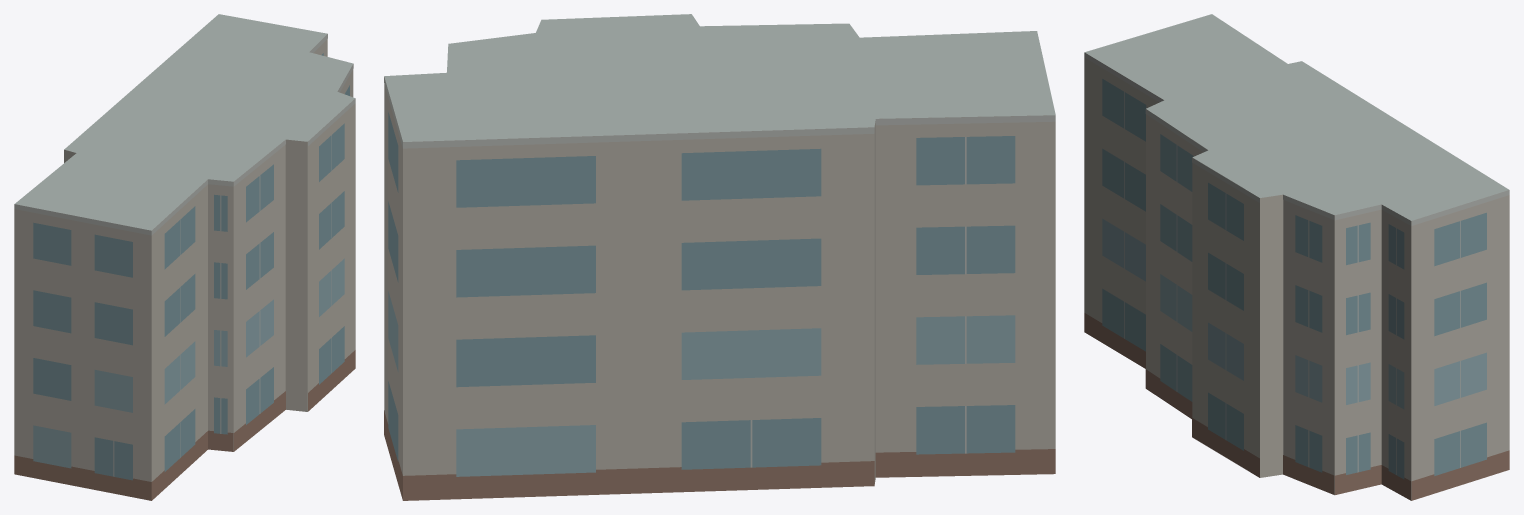
File: survey-upis-32875873.glb
The picture shows the model from 3 angles, left to right: view 1: azimuth 30°, elevation 25°; view 2: azimuth 150°, elevation 25°; view 3: azimuth 270°, elevation 25°; orthographic projection. The views are drawn at different scales.
Parts seen in each view (by area): view 1: survey-upis-32875873.tmp; view 2: survey-upis-32875873.tmp; view 3: survey-upis-32875873.tmp.
Part boxes in pixels (x1=…): survey-upis-32875873.tmp: x1=14, y1=14, x2=355, y2=500; survey-upis-32875873.tmp: x1=384, y1=14, x2=1055, y2=500; survey-upis-32875873.tmp: x1=1084, y1=14, x2=1509, y2=500.
Bounding box in the file's own units: 21.22 × 13.37 × 18.41.
